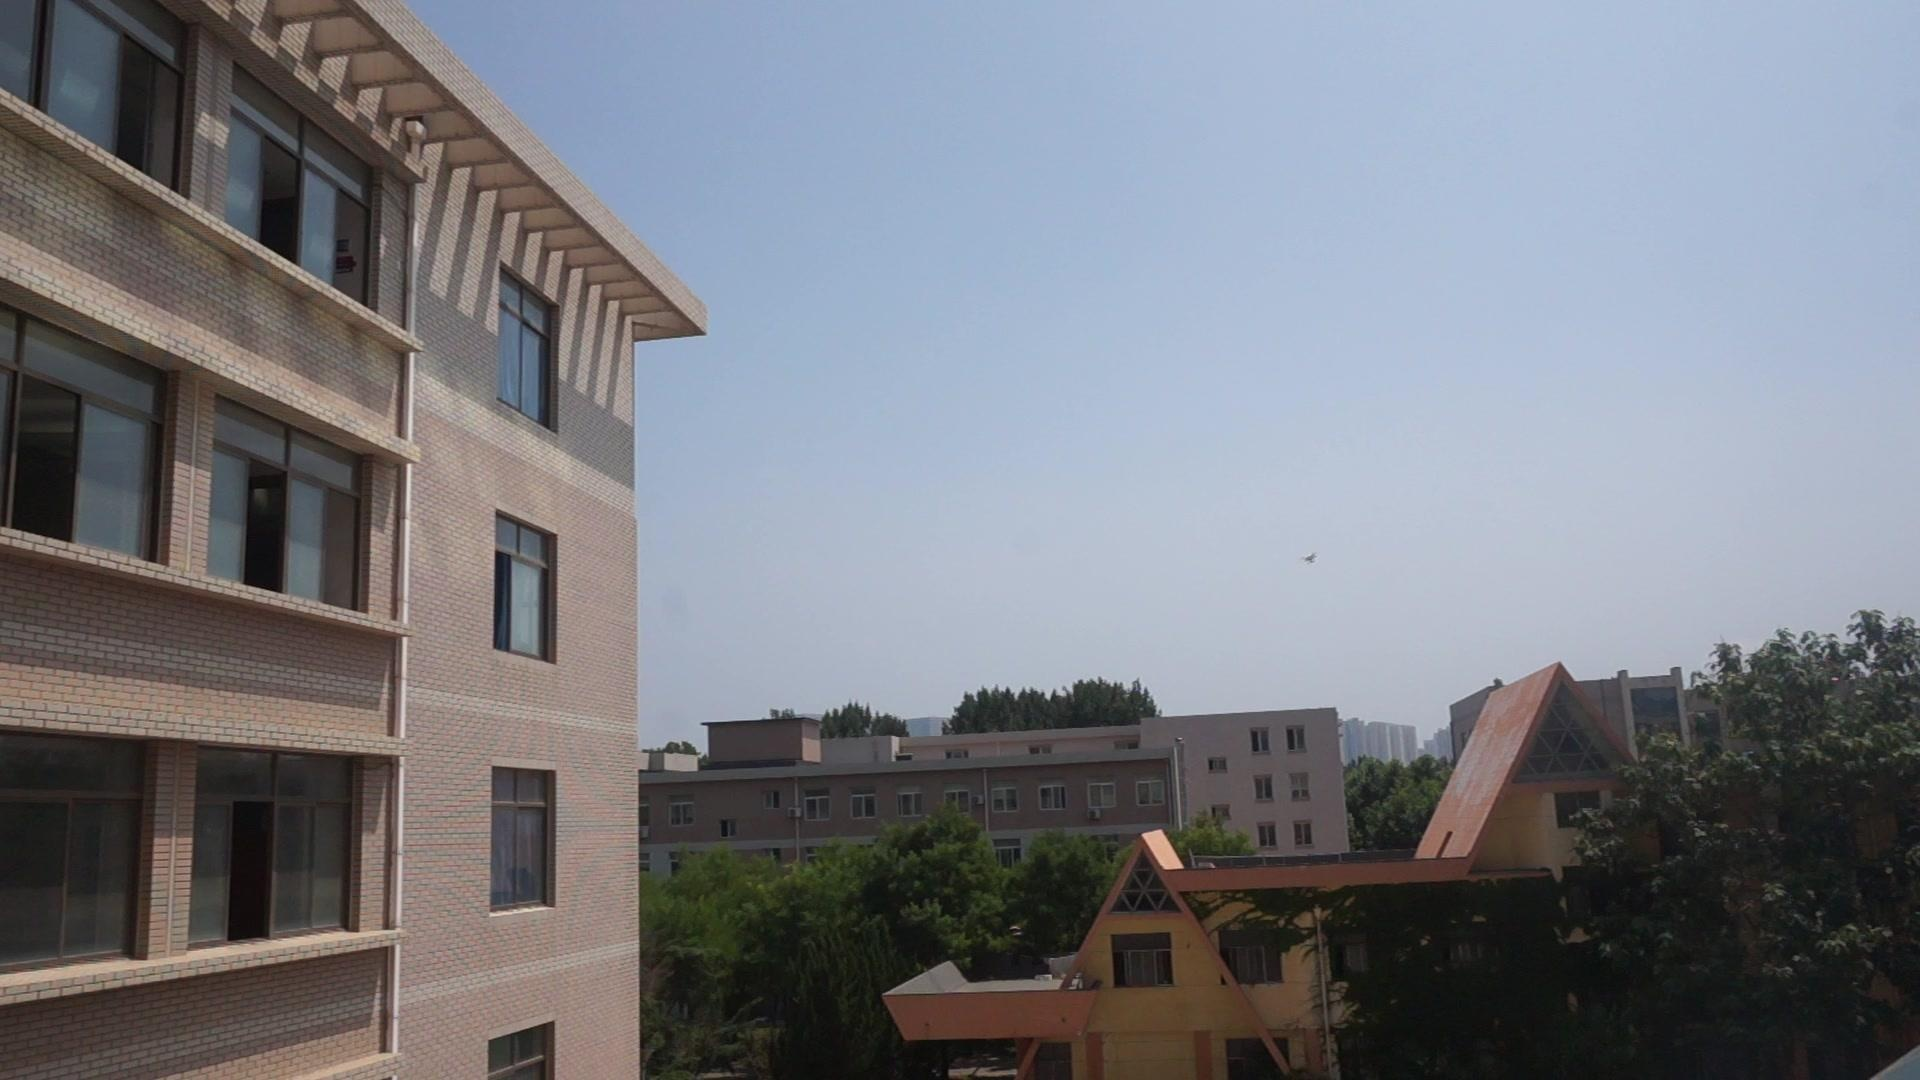UAV: (1302, 553, 1320, 566)
